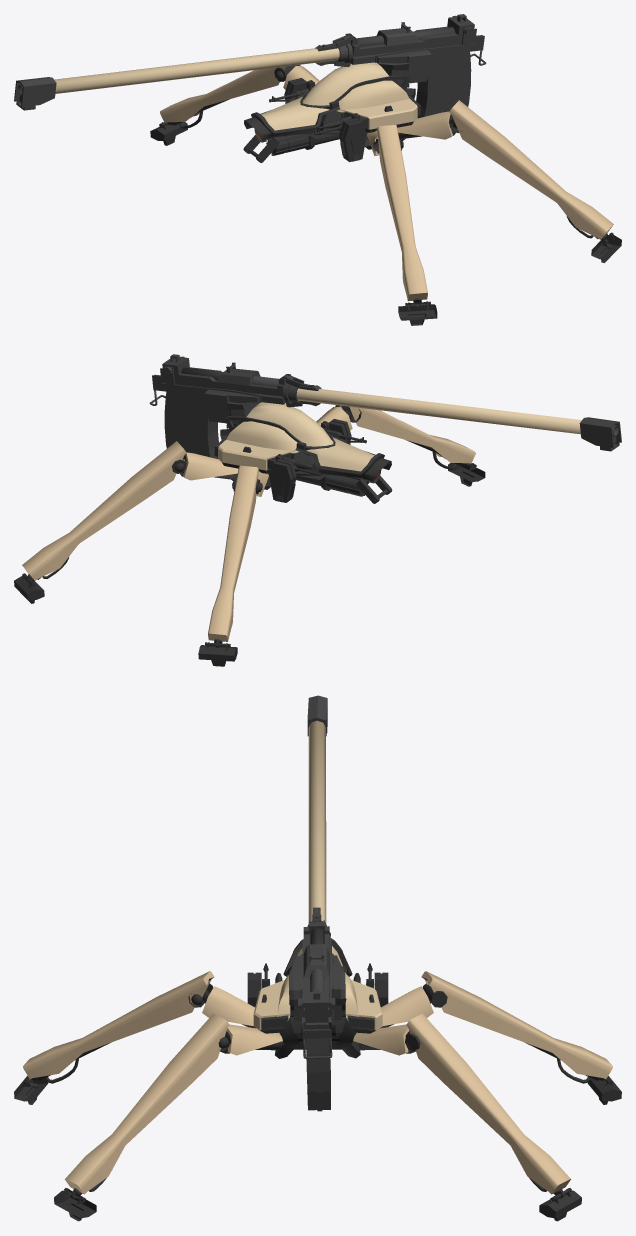
The model's file is 86TANK.fbx.
3 views of the same model, one above another, from view 1: azimuth 30°, elevation 25°; view 2: azimuth 150°, elevation 25°; view 3: azimuth 270°, elevation 25° (orthographic). The views are drawn at different scales.
Visible parts, largest first — view 1: Cube.010, Cube.009, Cube.028, Cube.025, Cube.031, Cube.030, Cube.037, Cube.026, Cube.032, Cube.029; view 2: Cube.010, Cube.009, Cube.034, Cube.031, Cube.025, Cube.036, Cube.038, Cube.032, Cube.026, Cube.035; view 3: Cube.010, Cube.028, Cube.034, Cube.009, Cube.031, Cube.025, Cube.027, Cube.033, Cube.030, Cube.036, Cube.029, Cube.035.
Boxes of the visible parts, x1,y1,x2,y2 form: Cube.010: (14,14,486,118); Cube.009: (243,62,420,162); Cube.028: (449,100,613,242); Cube.025: (373,125,427,306); Cube.031: (160,64,300,128); Cube.030: (397,111,457,139); Cube.037: (339,118,366,162); Cube.026: (398,301,437,325); Cube.032: (150,122,187,145); Cube.029: (591,232,621,262); Cube.010: (149,354,621,458); Cube.009: (214,402,392,503); Cube.034: (22,441,186,582); Cube.031: (208,465,262,647); Cube.025: (335,405,475,469); Cube.036: (180,452,238,480); Cube.038: (269,459,296,502); Cube.032: (198,642,237,666); Cube.026: (448,463,485,486); Cube.035: (14,573,44,603); Cube.010: (289,695,345,1111); Cube.028: (65,1013,230,1198); Cube.034: (405,1013,570,1198); Cube.009: (253,938,382,1058); Cube.031: (421,971,612,1083); Cube.025: (23,971,214,1083); Cube.027: (202,986,280,1033); Cube.033: (355,986,433,1033); Cube.030: (220,1024,283,1055); Cube.036: (353,1024,415,1055); Cube.029: (54,1188,96,1221); Cube.035: (539,1188,581,1221).
Bounding box in the file's own units: 1306 × 547 × 1190.
1 material, 1 textured.
